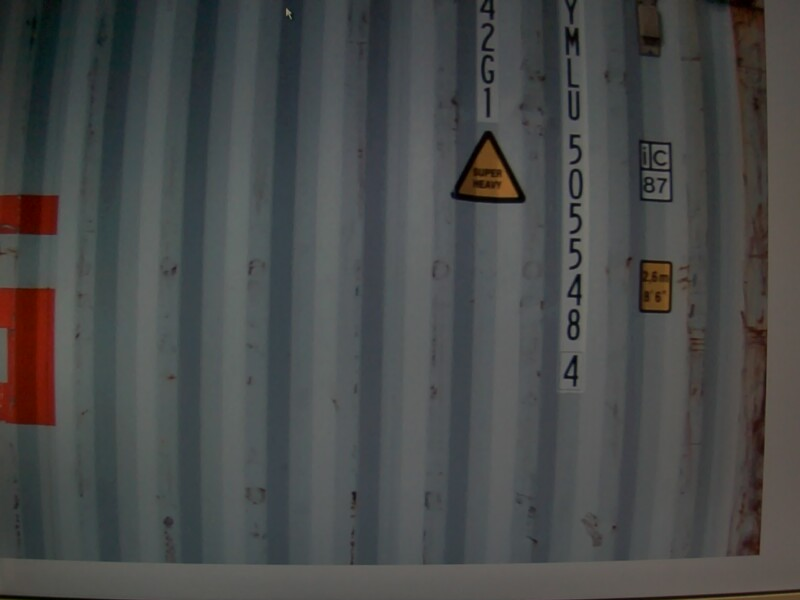container_no_door: (47, 23, 728, 492)
